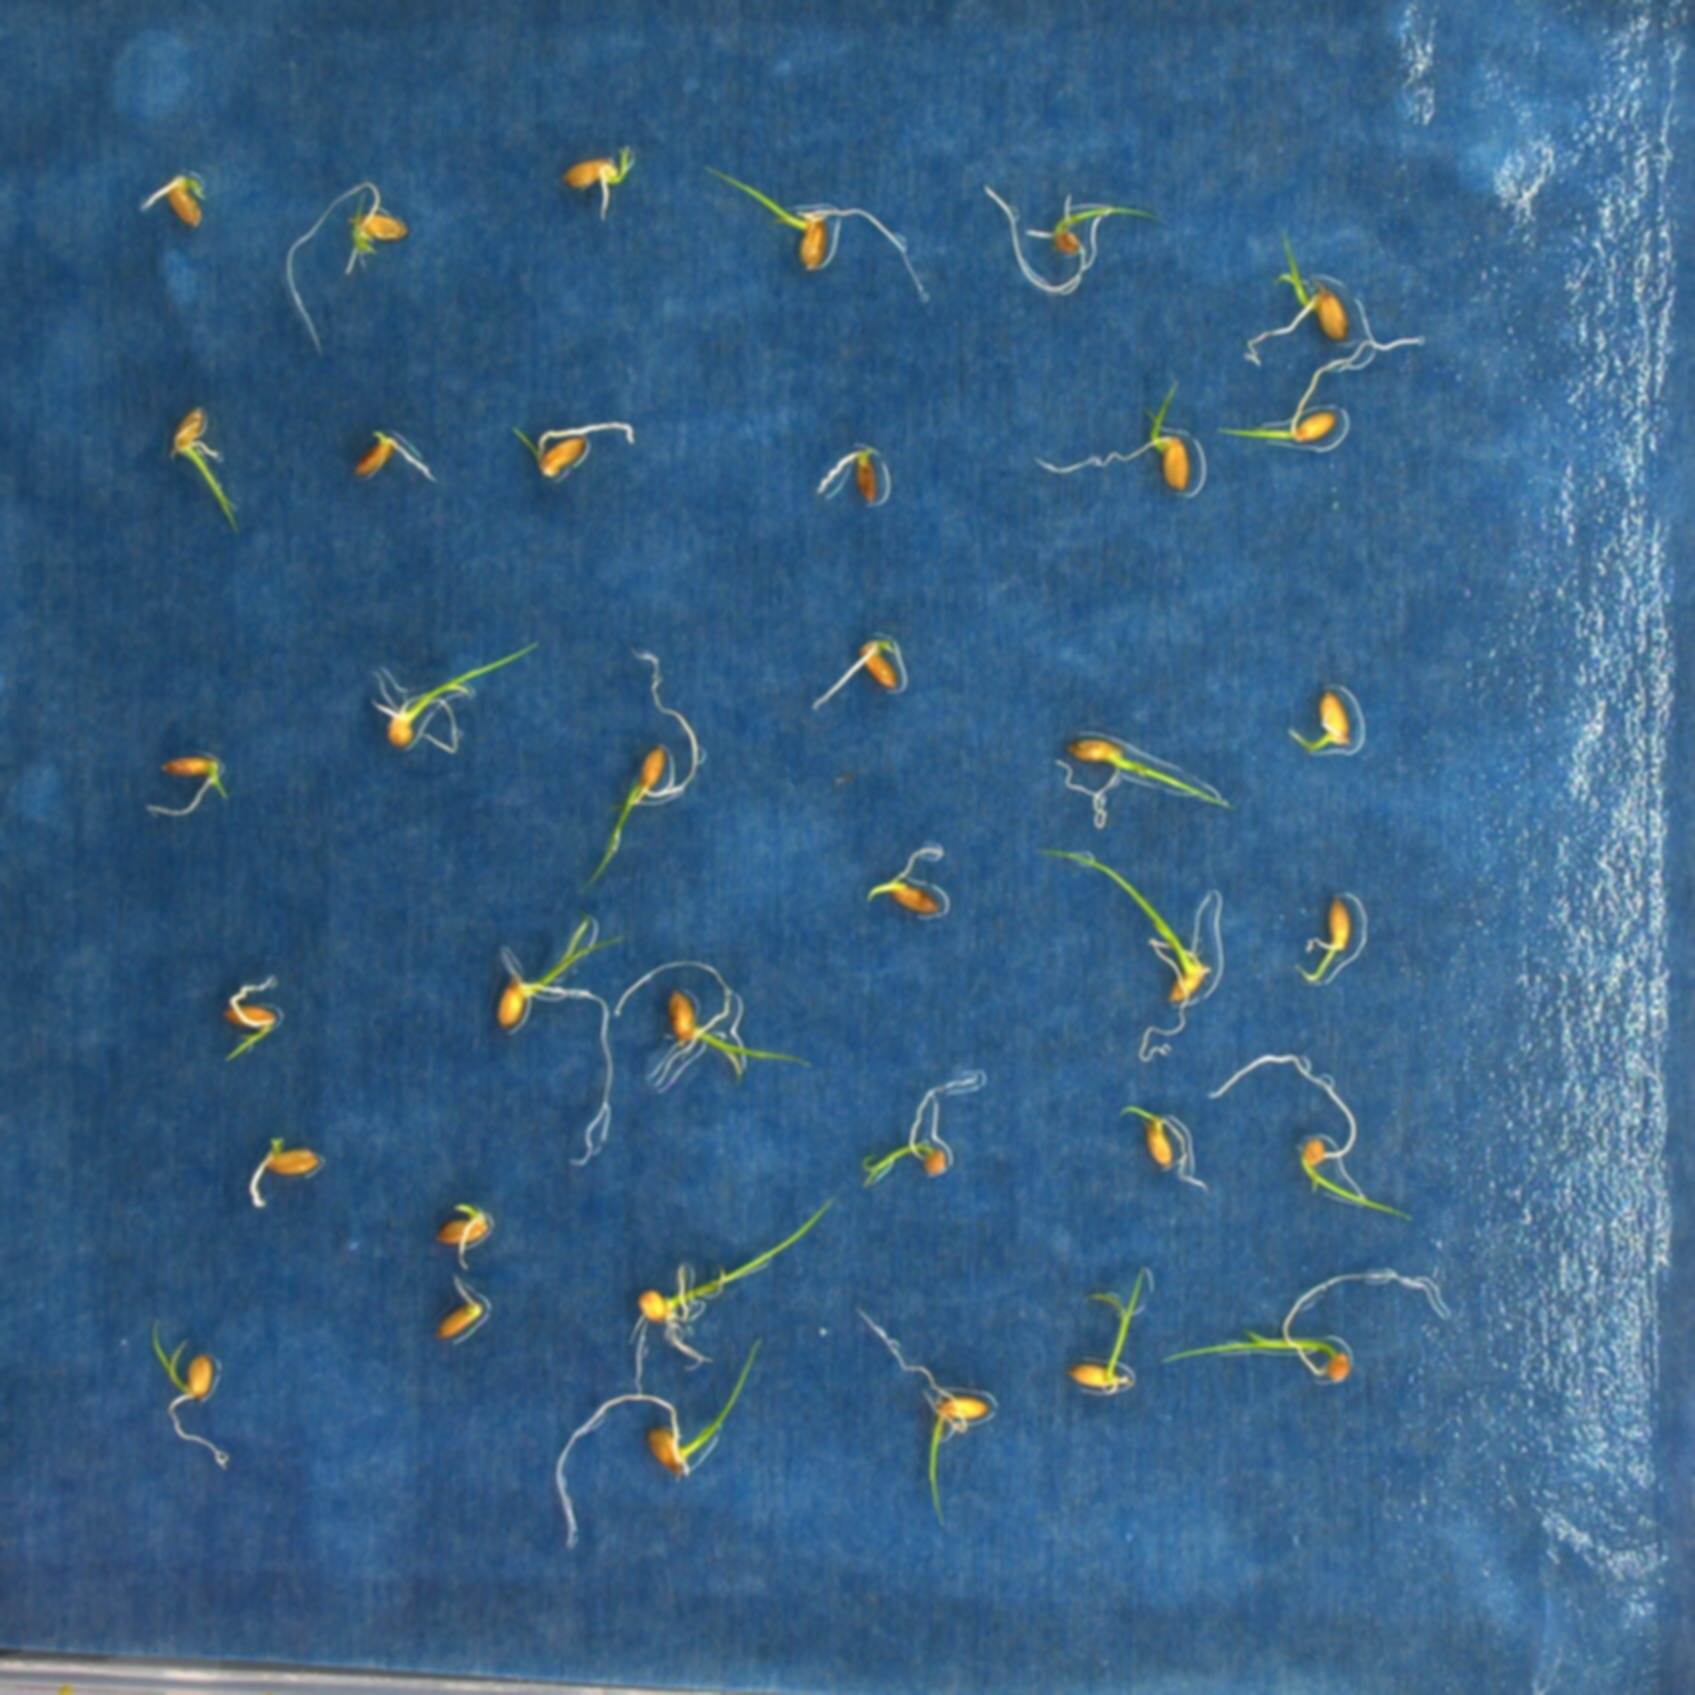not sprout: (348, 428, 439, 484), (247, 1138, 320, 1205), (810, 445, 879, 508), (436, 1274, 483, 1346), (438, 1205, 487, 1271)
sprout: (554, 1338, 762, 1548), (632, 1198, 838, 1399), (1038, 846, 1214, 1065), (1211, 1051, 1414, 1226), (1159, 1267, 1451, 1385), (698, 163, 931, 307), (492, 917, 621, 1170), (855, 1309, 993, 1527), (584, 646, 702, 896), (1231, 224, 1426, 365), (610, 958, 815, 1091), (284, 179, 405, 352), (986, 185, 1164, 300), (368, 638, 542, 754), (1032, 371, 1194, 490), (1218, 349, 1385, 445), (858, 1069, 986, 1191), (1059, 737, 1229, 827), (147, 1318, 227, 1471), (1069, 1268, 1149, 1395), (165, 404, 241, 532), (1110, 1107, 1214, 1194), (508, 421, 633, 483), (804, 638, 903, 714), (863, 838, 945, 914), (557, 144, 635, 217), (143, 754, 231, 812), (220, 973, 279, 1059), (1295, 903, 1350, 983), (1287, 692, 1354, 754), (140, 172, 210, 225)
